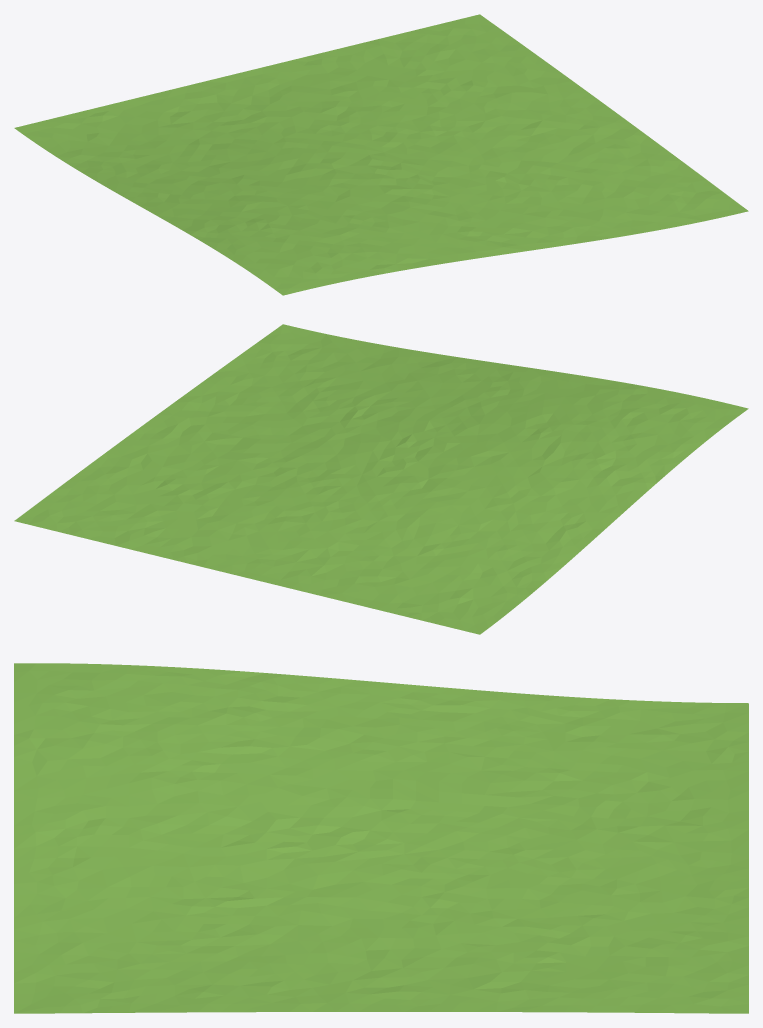
File: MT_River_End_L_d_03_LOD.fbx
3 views of the same model, one above another, from view 1: azimuth 30°, elevation 25°; view 2: azimuth 150°, elevation 25°; view 3: azimuth 270°, elevation 25° (orthographic). The views are drawn at different scales.
Parts seen in each view (by area): view 1: MT_River_End_L_d_03_LOD0; view 2: MT_River_End_L_d_03_LOD0; view 3: MT_River_End_L_d_03_LOD0.
Part boxes in pixels (x1,y1,x2,y2): MT_River_End_L_d_03_LOD0: (14,14,748,295); MT_River_End_L_d_03_LOD0: (14,324,748,634); MT_River_End_L_d_03_LOD0: (14,663,748,1013).
Size of what is drawn, in the model's own units: 10000 by 611 by 10000.
